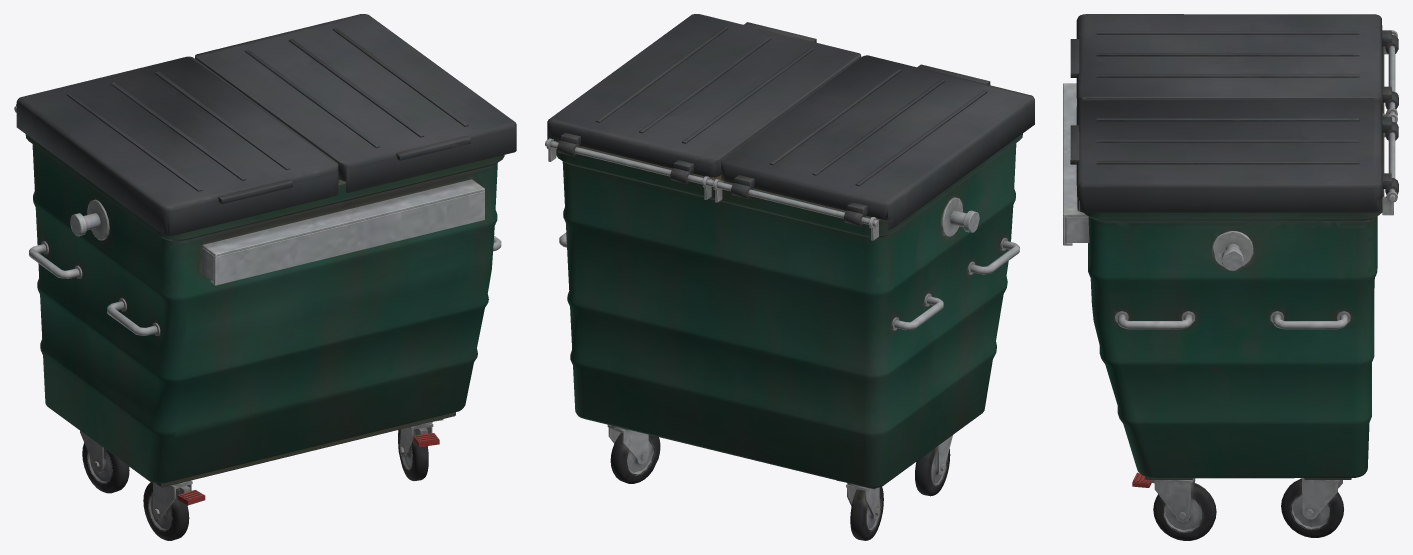
Rendered from dumpster.glb.
The picture shows the model from 3 angles, left to right: view 1: azimuth 30°, elevation 25°; view 2: azimuth 150°, elevation 25°; view 3: azimuth 270°, elevation 25°; orthographic projection. The views are drawn at different scales.
Visible parts, largest first — view 1: dumpster_body; view 2: dumpster_body; view 3: dumpster_body.
Boxes of the visible parts, left/top/right/bottom form: dumpster_body: left=14, top=14, right=516, bottom=540; dumpster_body: left=545, top=14, right=1034, bottom=540; dumpster_body: left=1063, top=14, right=1398, bottom=540.
Size of the model in its own units: 1.38 by 1.33 by 1.06.
1 material, 1 textured.
